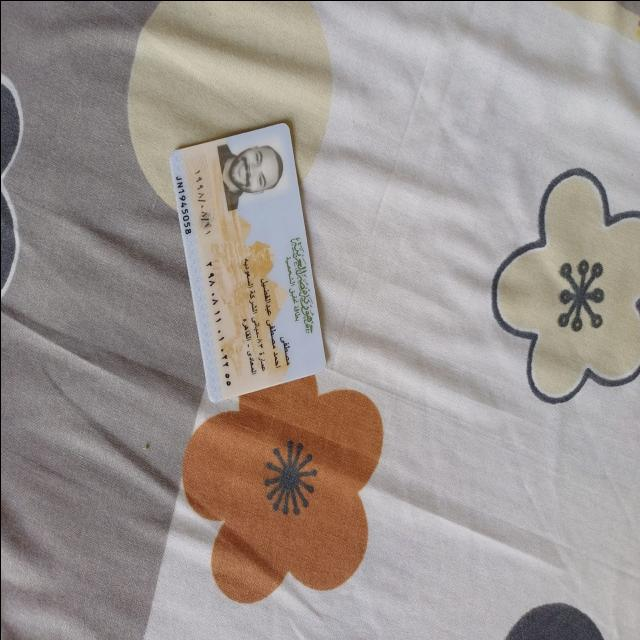ID-cards: (153, 107, 330, 417)
